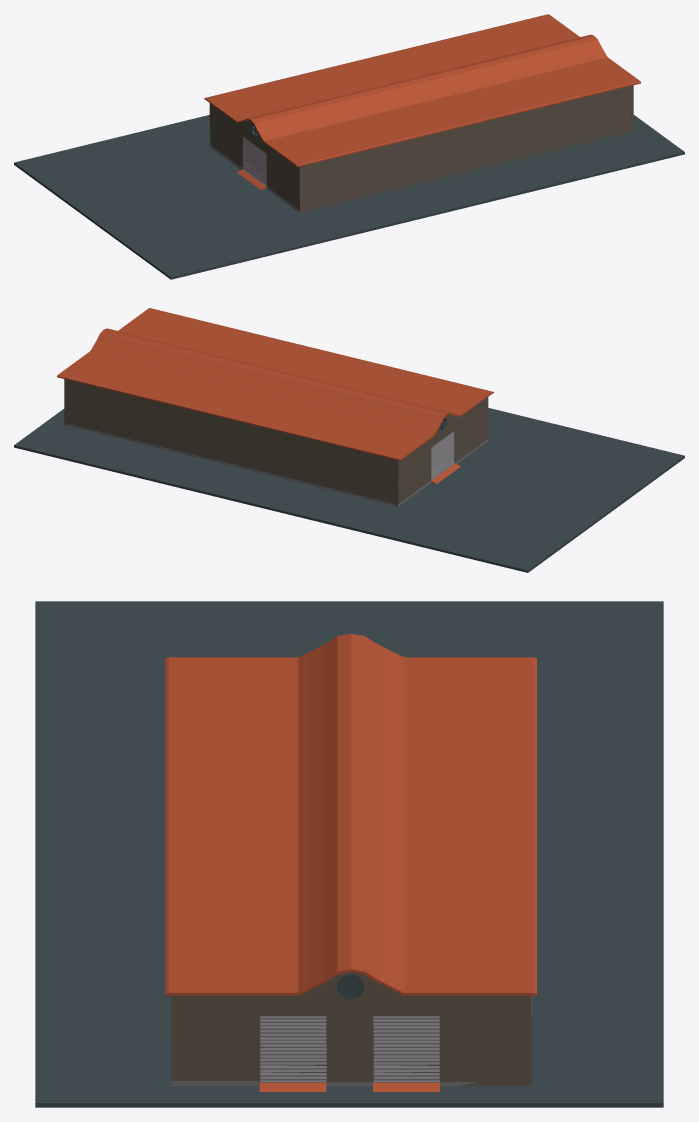
File: bodega (1).fbx
The picture shows the model from 3 angles, top to bottom: view 1: azimuth 30°, elevation 25°; view 2: azimuth 150°, elevation 25°; view 3: azimuth 270°, elevation 25°; orthographic projection. The views are drawn at different scales.
Parts seen in each view (by area): view 1: UNIDO; view 2: UNIDO; view 3: UNIDO.
Boxes of the visible parts, bbox=[...] form: UNIDO: bbox=[14, 14, 684, 279]; UNIDO: bbox=[14, 308, 684, 572]; UNIDO: bbox=[35, 601, 663, 1107].
Size of the model in its own units: 25562 by 3021 by 13525.
